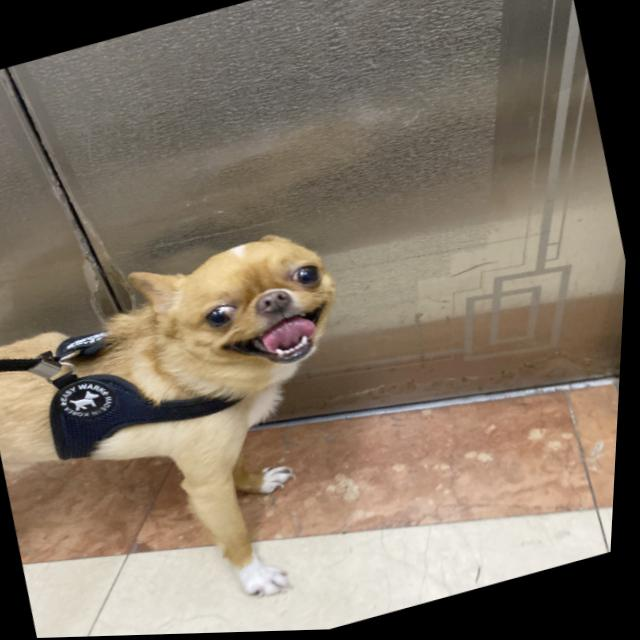dog-chihuahua: (117, 215, 356, 404)
